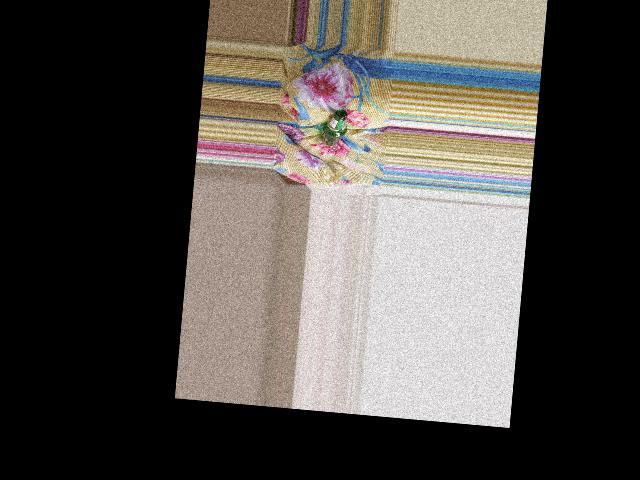beer: (321, 108, 348, 146)
